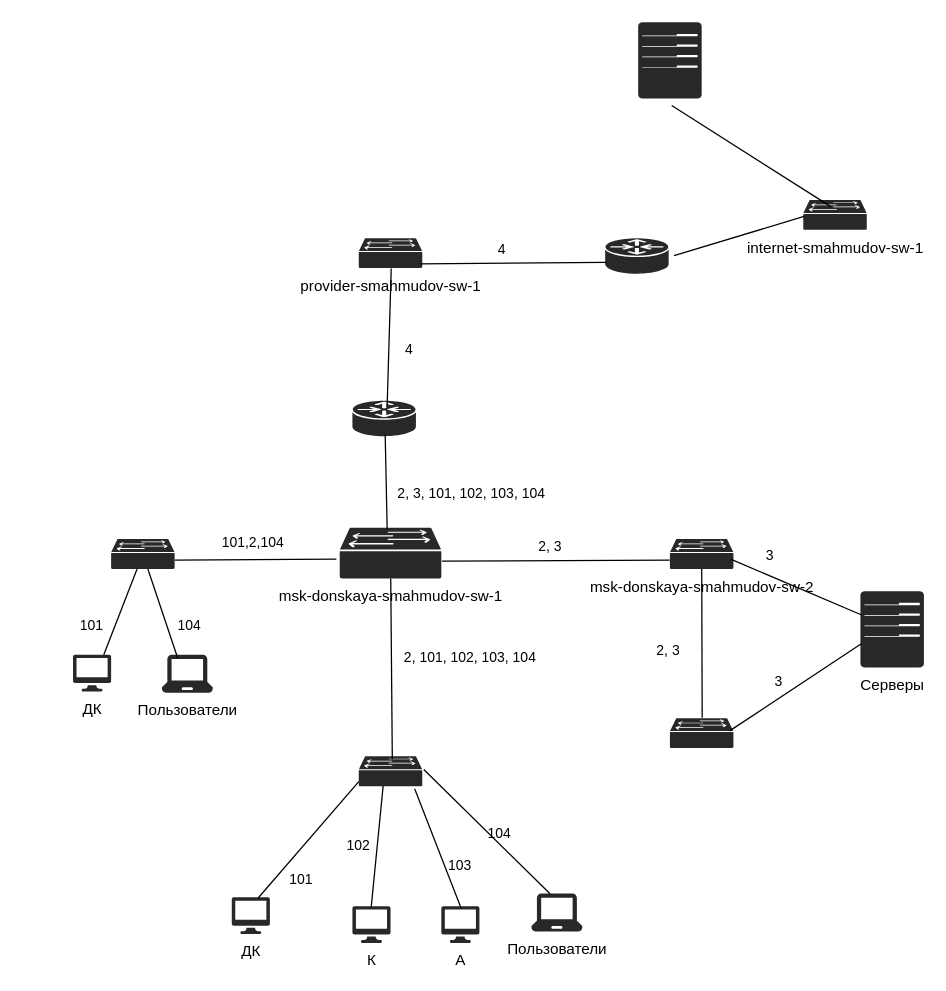
Image size: 946x991. Some labels were removed from this diagram. The shapes that lost their labels are listed below. From the top down, each one's centre as x and y in pixels, then its label:
At (x=669, y=60): "WWW Серверы".
At (x=636, y=255): "provider-smahmudov-gw-1".
At (x=383, y=418): "msk-donskaya-smahmudov-gw-1".
At (x=142, y=553): "msk-pavlovskaya-smahmudov-sw-1".
At (x=701, y=732): "msk-donskaya-smahmudov-sw-3".
At (x=390, y=770): "msk-donskaya-smahmudov-sw-4".
